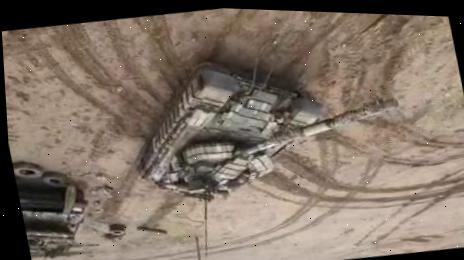tank: (114, 32, 417, 217)
